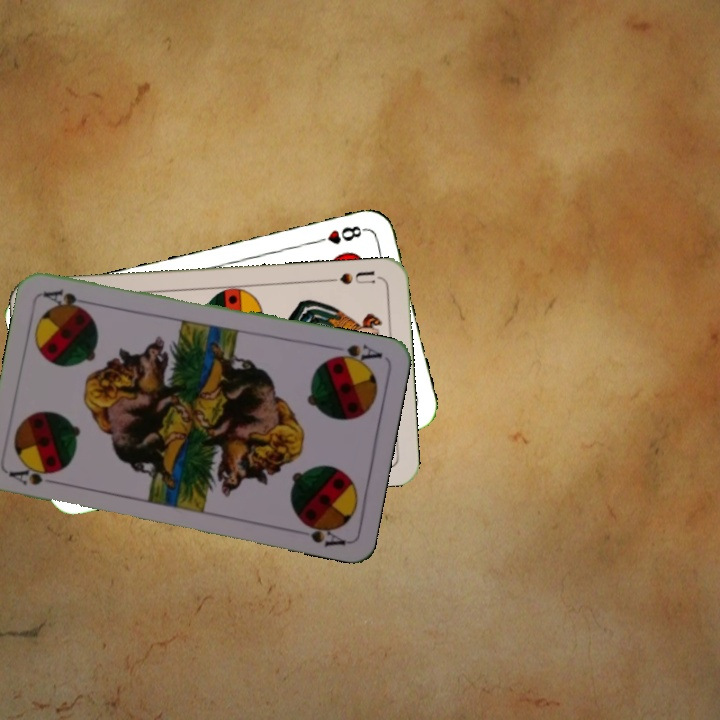H8: (310, 222, 368, 247)
SA: (324, 340, 385, 368), (6, 463, 65, 488)
SU: (323, 266, 378, 287)
